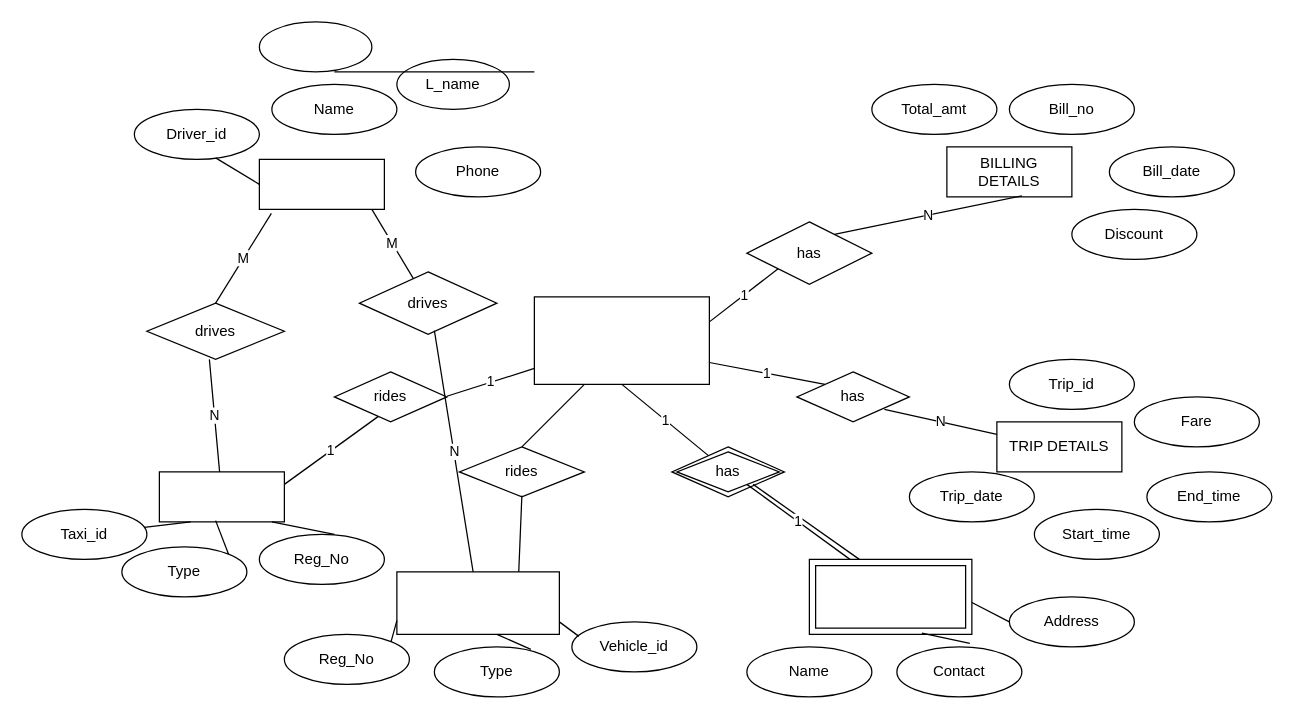
This 1294x719 diagram has some shape labels left out. Here are the shapes that lost their labels. From the top down, the box of each, then its label:
(258, 21, 372, 72): F_name
(258, 158, 384, 209): DRIVER
(533, 296, 709, 384): USER
(158, 471, 284, 522): TAXI
(396, 571, 559, 634): AUTO_BIKE_SERVICE
(808, 558, 972, 634): ALTERNATE CONTACT PERSON
